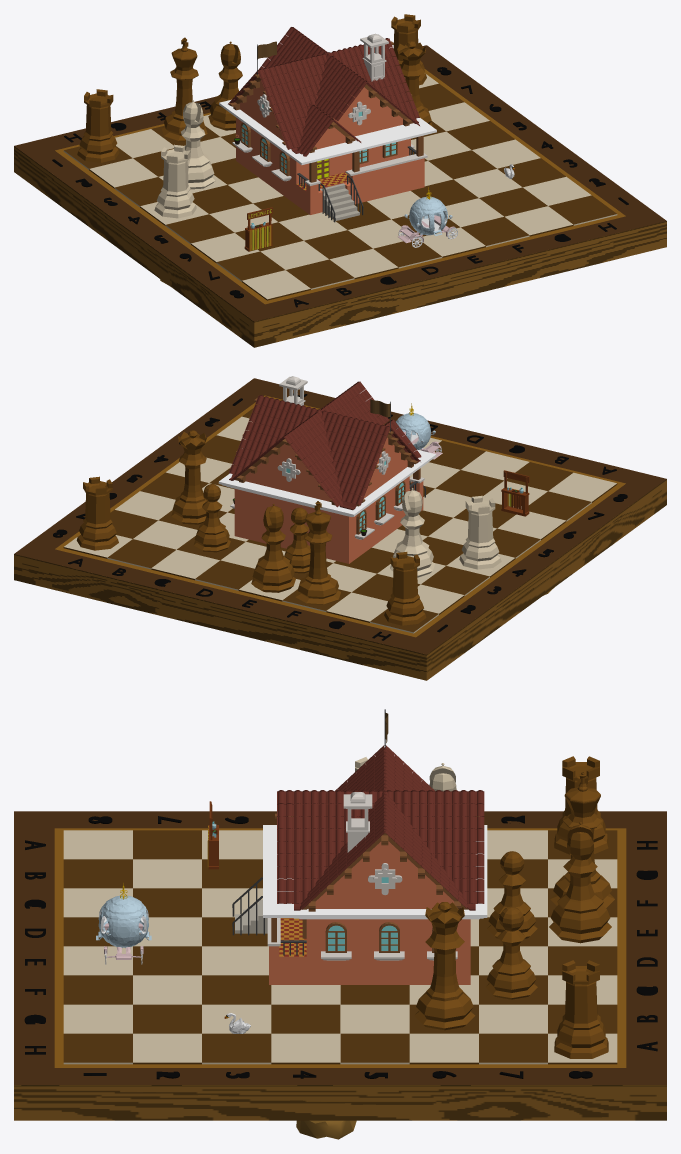
3 renders of one model, top to bottom at view 1: azimuth 30°, elevation 25°; view 2: azimuth 150°, elevation 25°; view 3: azimuth 270°, elevation 25°, orthographic. The views are drawn at different scales.
Visible parts, largest first — view 1: Cube.002, Cube.1141, VEHICLES_FANTASY_CARRIAGE, OBJRANDOM_LEMONADE_STAND; view 2: Cube.002, Cube.1141, VEHICLES_FANTASY_CARRIAGE, OBJRANDOM_LEMONADE_STAND; view 3: Cube.002, Cube.1141, VEHICLES_FANTASY_CARRIAGE, UNDERGROUND_T_REX_BONES.
Part boxes in pixels (x1,y1,x2,y2): Cube.002: [14, 14, 666, 347]; Cube.1141: [219, 27, 436, 222]; VEHICLES_FANTASY_CARRIAGE: [397, 187, 457, 247]; OBJRANDOM_LEMONADE_STAND: [244, 207, 272, 251]; Cube.002: [14, 378, 666, 680]; Cube.1141: [218, 376, 436, 563]; VEHICLES_FANTASY_CARRIAGE: [395, 403, 442, 459]; OBJRANDOM_LEMONADE_STAND: [501, 470, 529, 516]; Cube.002: [14, 756, 666, 1120]; Cube.1141: [232, 709, 487, 984]; VEHICLES_FANTASY_CARRIAGE: [96, 883, 151, 964]; UNDERGROUND_T_REX_BONES: [296, 1120, 356, 1139].
Bounding box in the file's own units: 3981 × 1751 × 4012.
41 materials, 2 textured.
